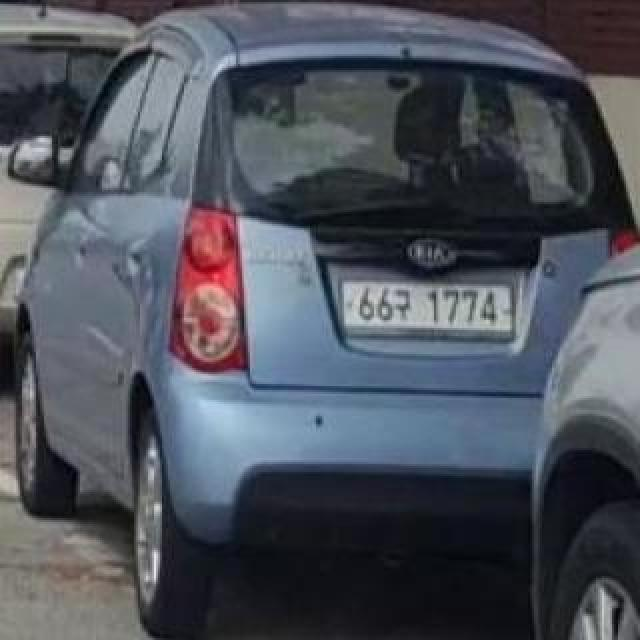car: (6, 2, 618, 614)
illegal_plate: (340, 274, 520, 347)
